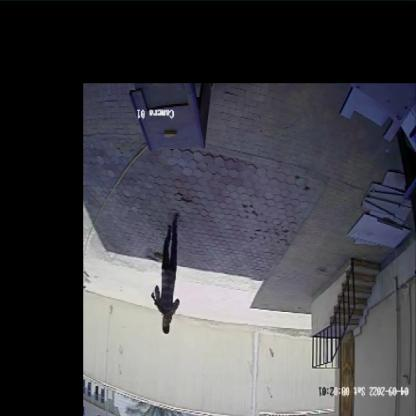handgun: (150, 287, 173, 326)
